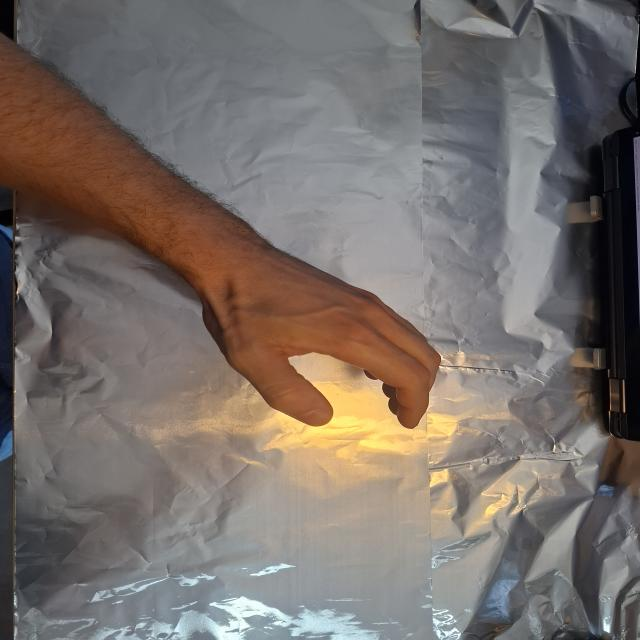glove_off: (197, 264, 445, 432)
